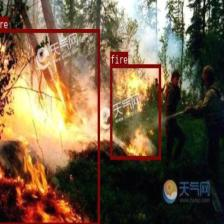fire: (0, 28, 99, 223), (110, 64, 161, 159)
